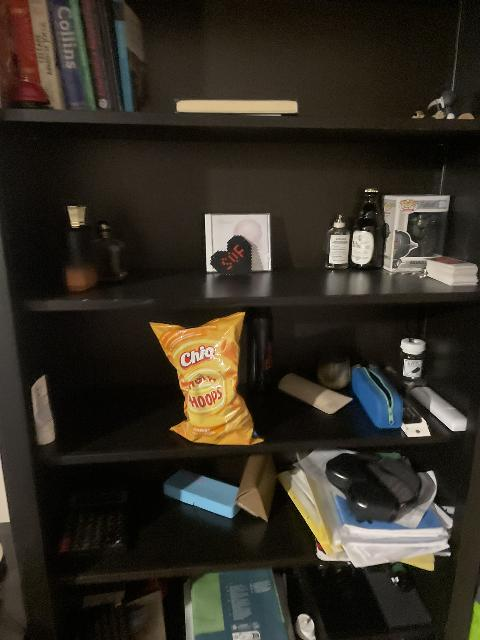Chio Hula Hoops Cheese 70g: (149, 315, 264, 446)
